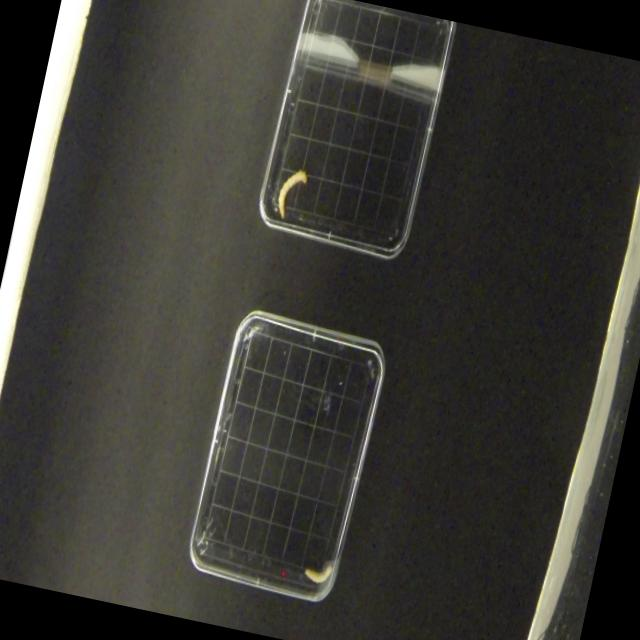larva: (274, 165, 310, 221), (302, 552, 336, 590)
